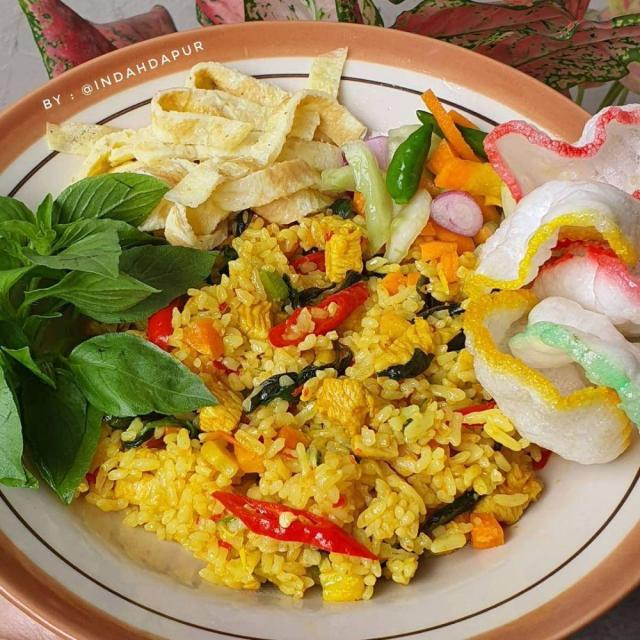Nasi Goreng: (90, 175, 562, 596)
